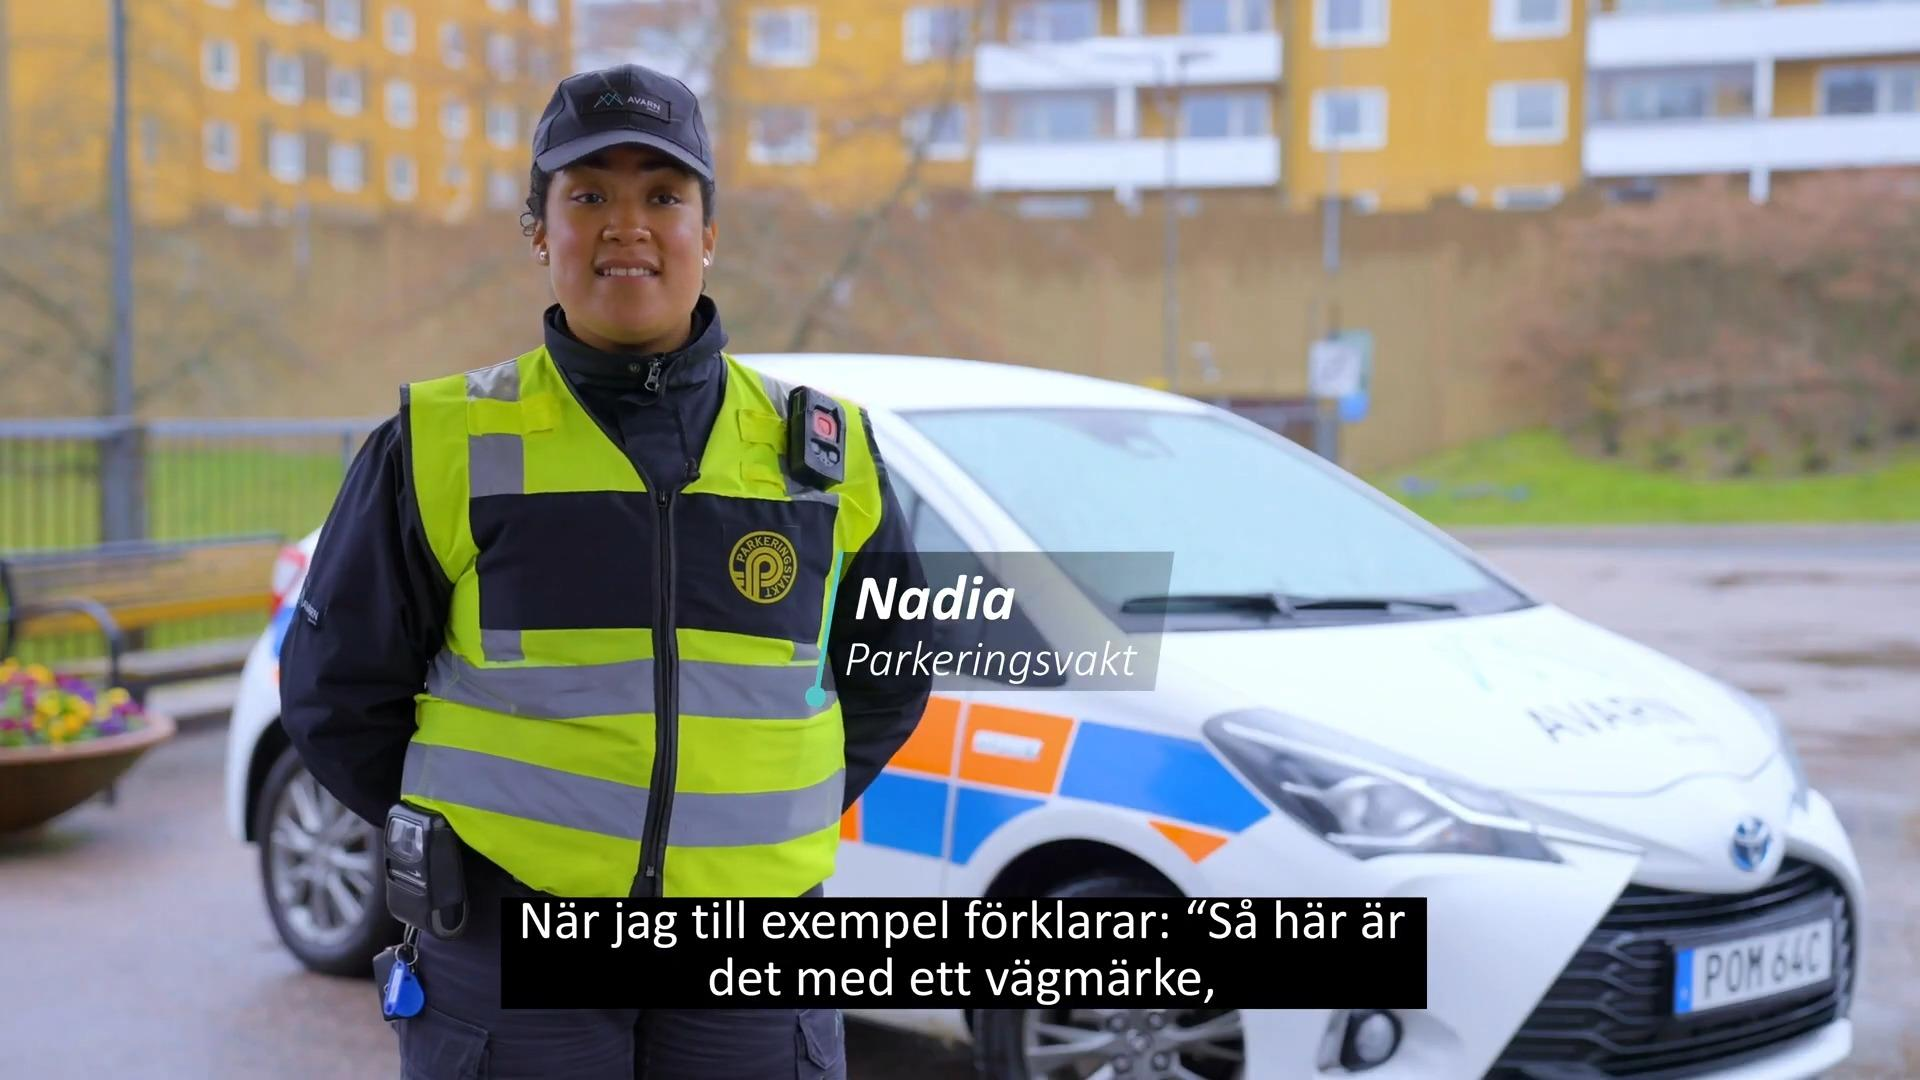parking-attendant: (280, 65, 931, 1079)
